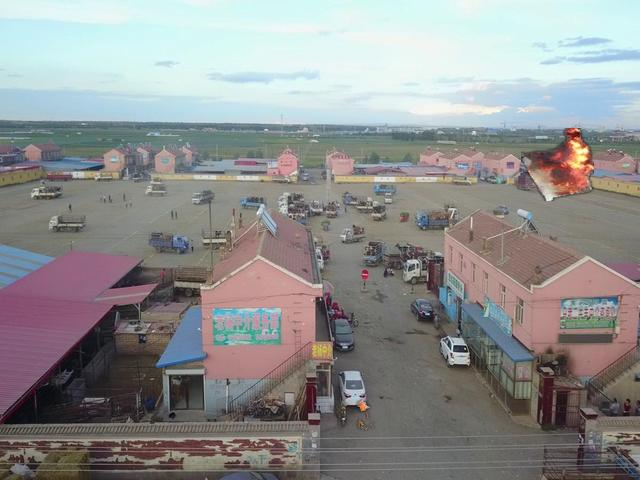fire: (521, 128, 593, 200), (330, 397, 373, 431)
